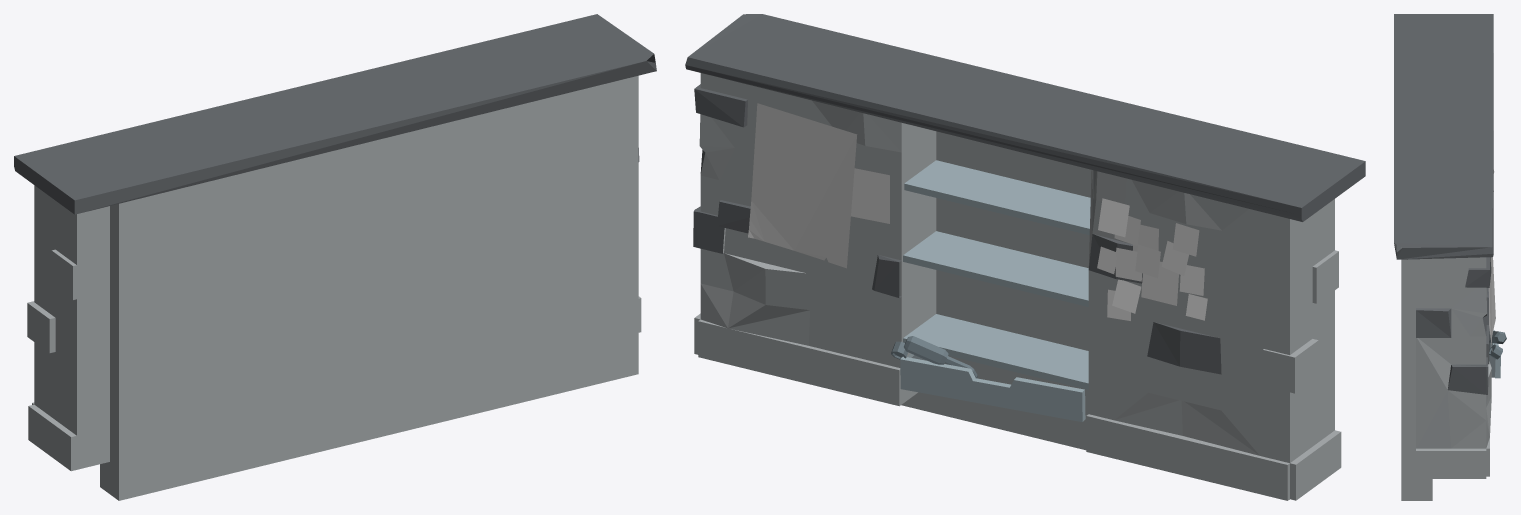
The model's file is packed_shelf.glb.
3 views of the same model, side by side, from view 1: azimuth 30°, elevation 25°; view 2: azimuth 150°, elevation 25°; view 3: azimuth 270°, elevation 25° (orthographic). The views are drawn at different scales.
Parts seen in each view (by area): view 1: packed_shelf-col; view 2: packed_shelf-col; view 3: packed_shelf-col.
Part boxes in pixels (x1,y1,x2,y2): packed_shelf-col: (14, 14, 656, 500); packed_shelf-col: (685, 14, 1365, 500); packed_shelf-col: (1394, 14, 1506, 500).
Size of the model in its own units: 3 by 1.55 by 0.6122.
